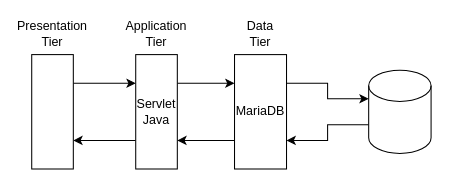
This 449x187 diagram has some shape labels left out. Here are the shapes that lost their labels. From the top down, the centre of each, then its label:
At point 52,111: "HTML CSS JS".
At point 399,111: "DataBase".
